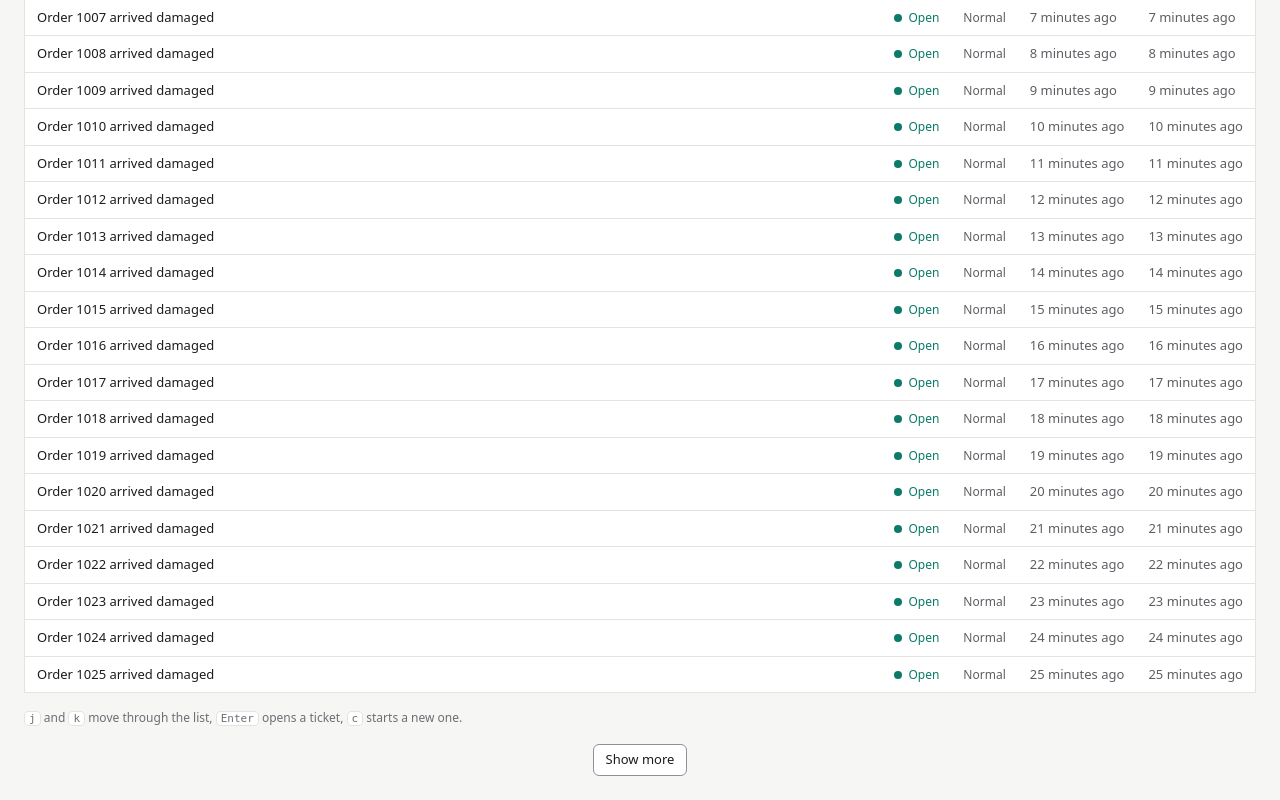
it: the ticket list › loads more tickets on request
(page scrolled)
Click the button "Show more". click: (640, 760)
box: [593,744,687,776]
(page scrolled)
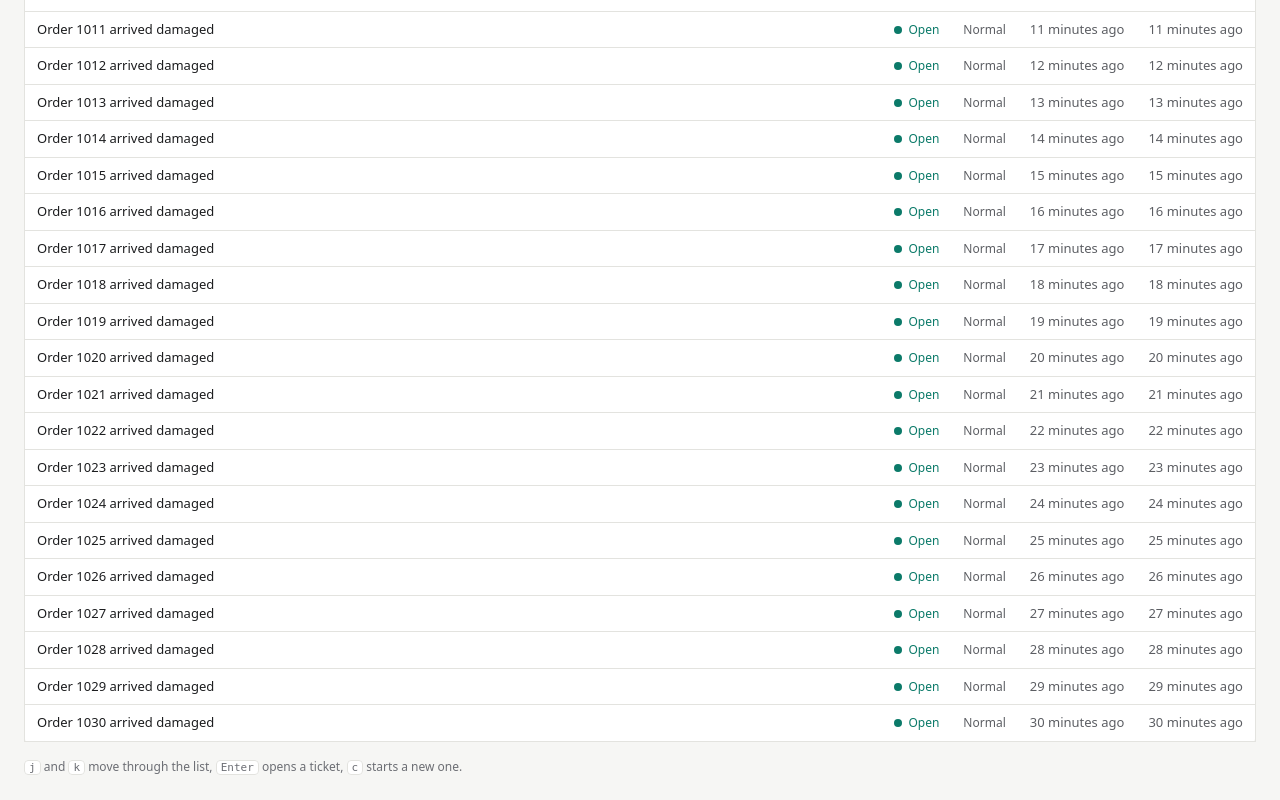
Check: the link "Order 1030 arrived damaged" is shown, box [37,713,214,731]
Check: the button "Show more" is gone
